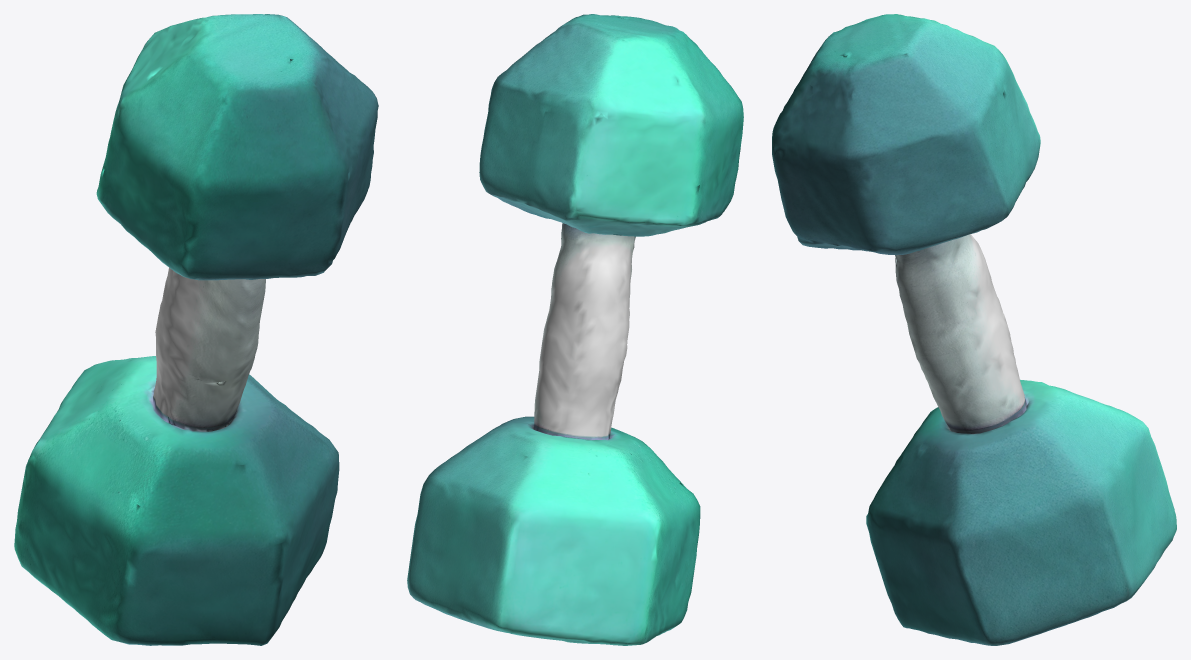
The model's file is Stack 4A - Dumbbell.glb.
3 renders of one model, left to right at view 1: azimuth 30°, elevation 25°; view 2: azimuth 150°, elevation 25°; view 3: azimuth 270°, elevation 25°, orthographic. The views are drawn at different scales.
Parts seen in each view (by area): view 1: Stack 4A - Dumbbell · mesh; view 2: Stack 4A - Dumbbell · mesh; view 3: Stack 4A - Dumbbell · mesh.
Boxes of the visible parts, x1=… form: Stack 4A - Dumbbell · mesh: x1=14, y1=14, x2=378, y2=645; Stack 4A - Dumbbell · mesh: x1=407, y1=14, x2=743, y2=645; Stack 4A - Dumbbell · mesh: x1=772, y1=14, x2=1176, y2=645.
Size of the model in its own units: 0.437 by 1 by 0.623.
1 material, 1 textured.
